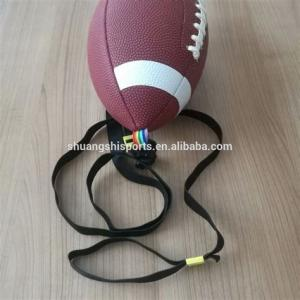Rugby: (84, 0, 212, 134)
